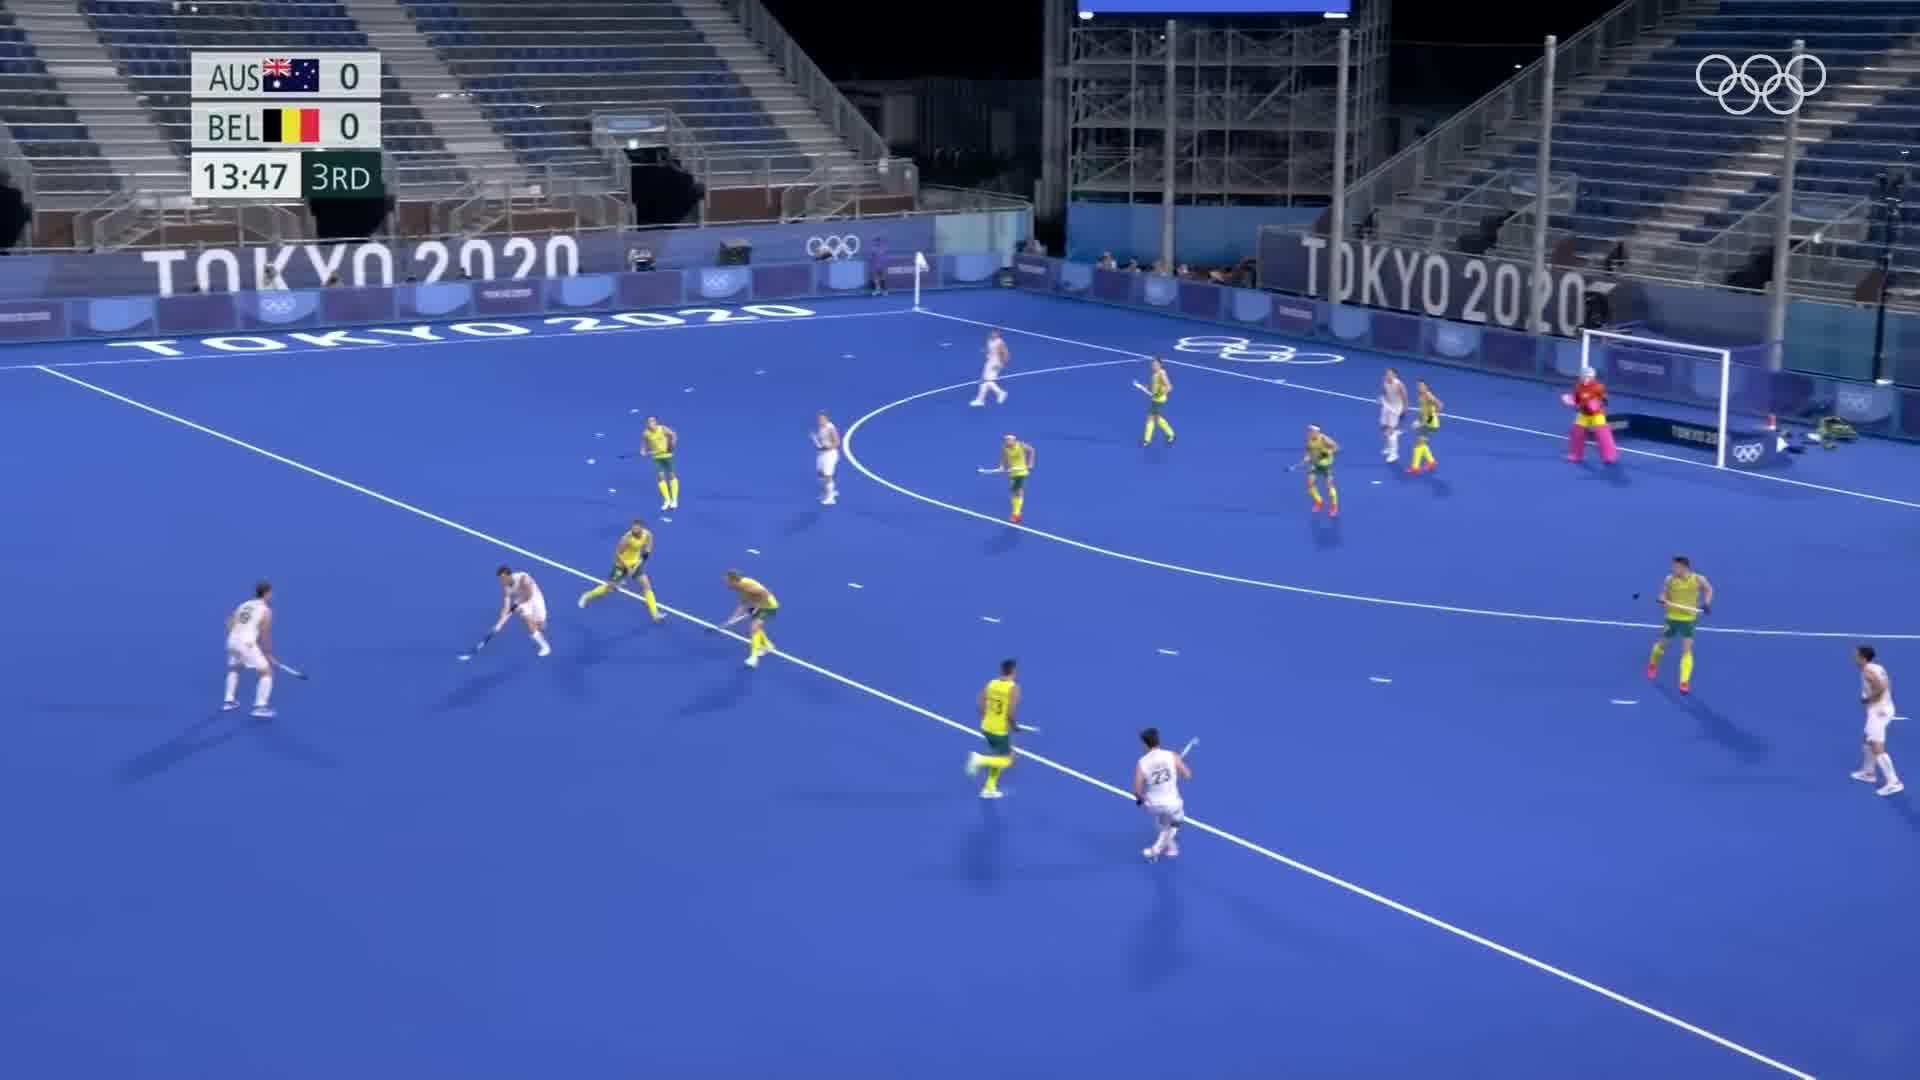ball: (457, 649, 474, 668)
